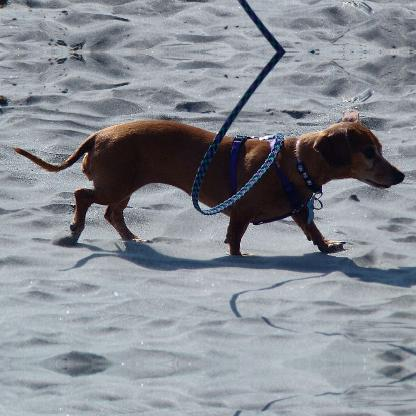Dog: (11, 119, 405, 254)
